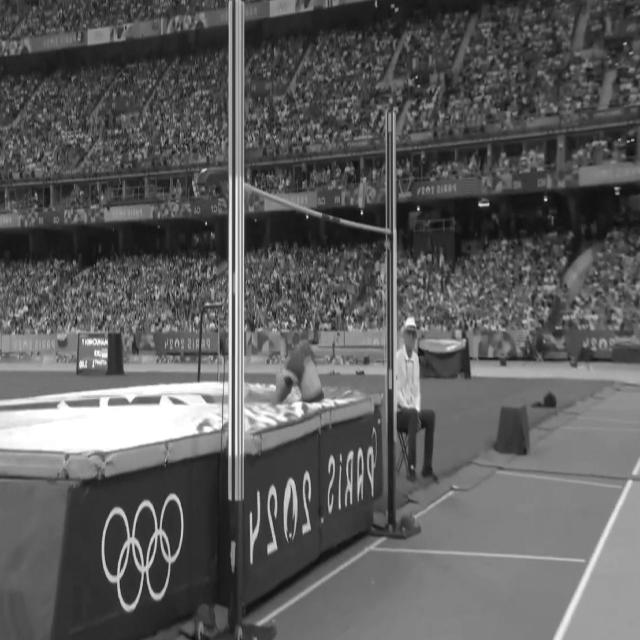land: (247, 336, 325, 422)
